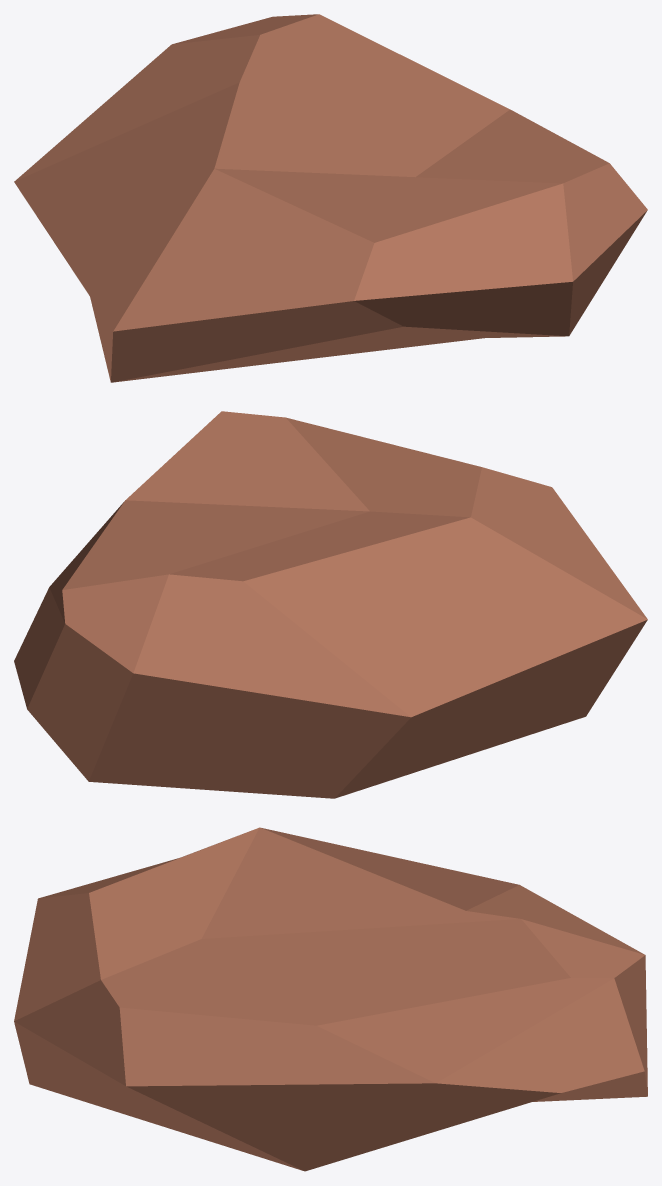
File: kamien 6.fbx
3 views of the same model, one above another, from view 1: azimuth 30°, elevation 25°; view 2: azimuth 150°, elevation 25°; view 3: azimuth 270°, elevation 25° (orthographic). The views are drawn at different scales.
Visible parts, largest first — view 1: Cube; view 2: Cube; view 3: Cube.
Boxes of the visible parts, bbox=[...] form: Cube: bbox=[14, 14, 647, 382]; Cube: bbox=[14, 411, 647, 798]; Cube: bbox=[14, 827, 647, 1171].
Bounding box in the file's own units: 293 × 104 × 319.
Materials: 1 (1 with a texture image).
